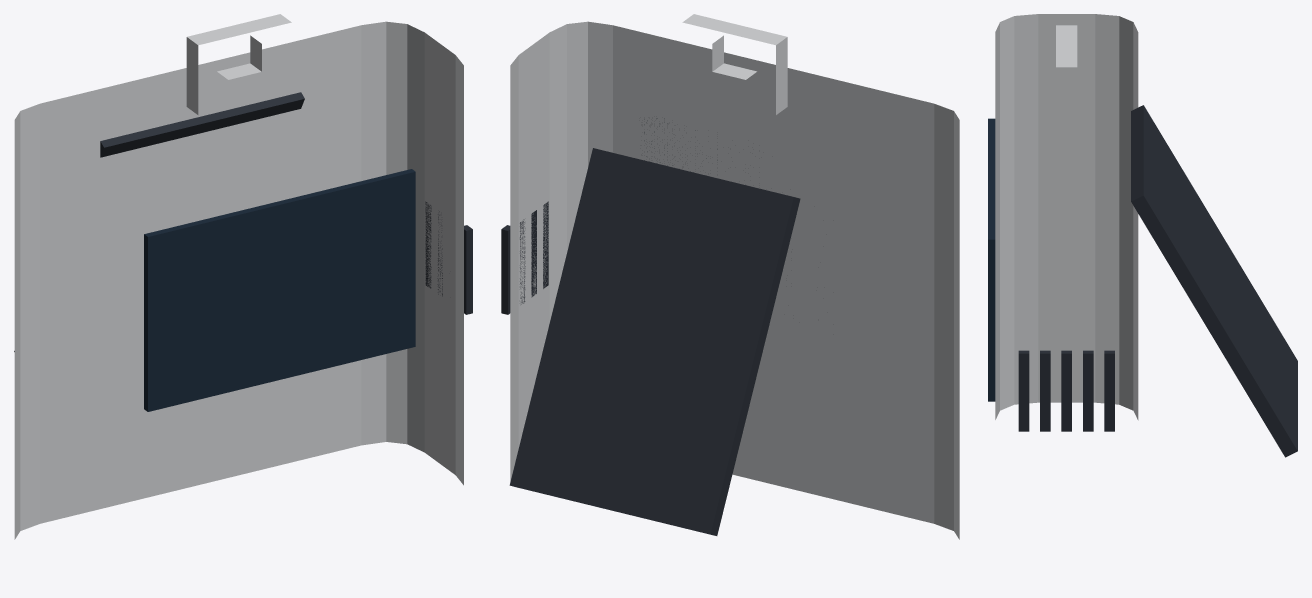
Rendered from sensor-hygrometer-lcd.glb.
The picture shows the model from 3 angles, left to right: view 1: azimuth 30°, elevation 25°; view 2: azimuth 150°, elevation 25°; view 3: azimuth 270°, elevation 25°; orthographic projection. The views are drawn at different scales.
Visible parts, largest first — view 1: hygro_body, hygro_screen, hygro_stand_leg, hygro_tab, hygro_vents; view 2: hygro_body, hygro_stand_leg, hygro_tab, hygro_vents; view 3: hygro_body, hygro_stand_leg, hygro_vents, hygro_tab, hygro_screen.
Part boxes in pixels (x1,y1,x2,y2): hygro_body: (14,21,463,539); hygro_screen: (144,169,415,411); hygro_stand_leg: (14,92,304,351); hygro_tab: (186,14,291,114); hygro_vents: (425,201,472,314); hygro_body: (510,21,959,539); hygro_stand_leg: (509,148,800,535); hygro_tab: (682,14,787,114); hygro_vents: (501,201,548,314); hygro_body: (995,14,1138,420); hygro_stand_leg: (1131,105,1297,457); hygro_vents: (1018,350,1114,431); hygro_tab: (1056,25,1077,132); hygro_screen: (988,118,995,401).
Size of the model in its own units: 0.061 by 0.069 by 0.0433.
